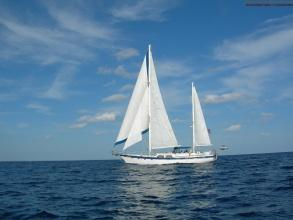fanchuan: (108, 47, 235, 166)
